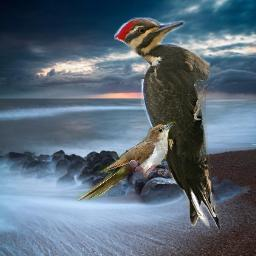Cuckoo: (76, 121, 176, 201)
Woodpecker: (114, 17, 222, 233)
